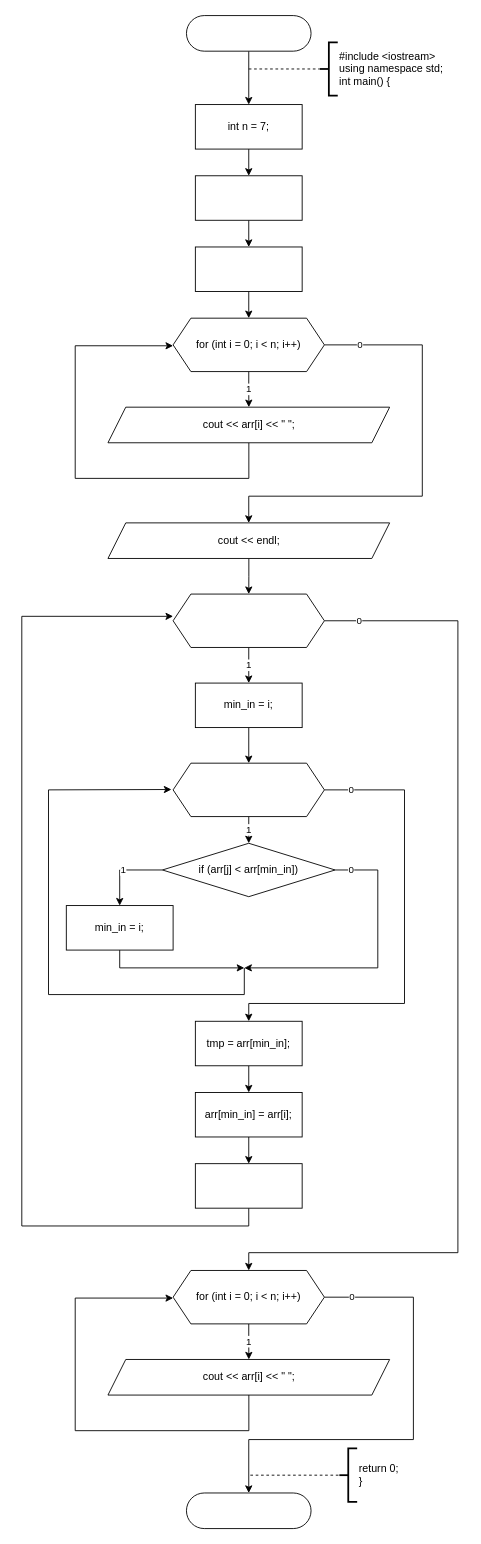
Some shapes in this 481 by 1544 pixel diagram are drawn without their labels. The shapes that lost their labels are listed below. From the top down, each one's centre as x and y in pixels, then its label:
the point at 248,33: Запуск
the point at 248,197: int tmp, min_in;
the point at 248,268: int arr[7] = { 5, 2, 4, 0, 6, 1, 3 };
the point at 248,620: for (int i = 0; i < n - 1; i++)
the point at 248,789: for (int j = i + 1; j < n; j++)
the point at 248,1185: arr[i] = tmp;
the point at 248,1510: Конец
